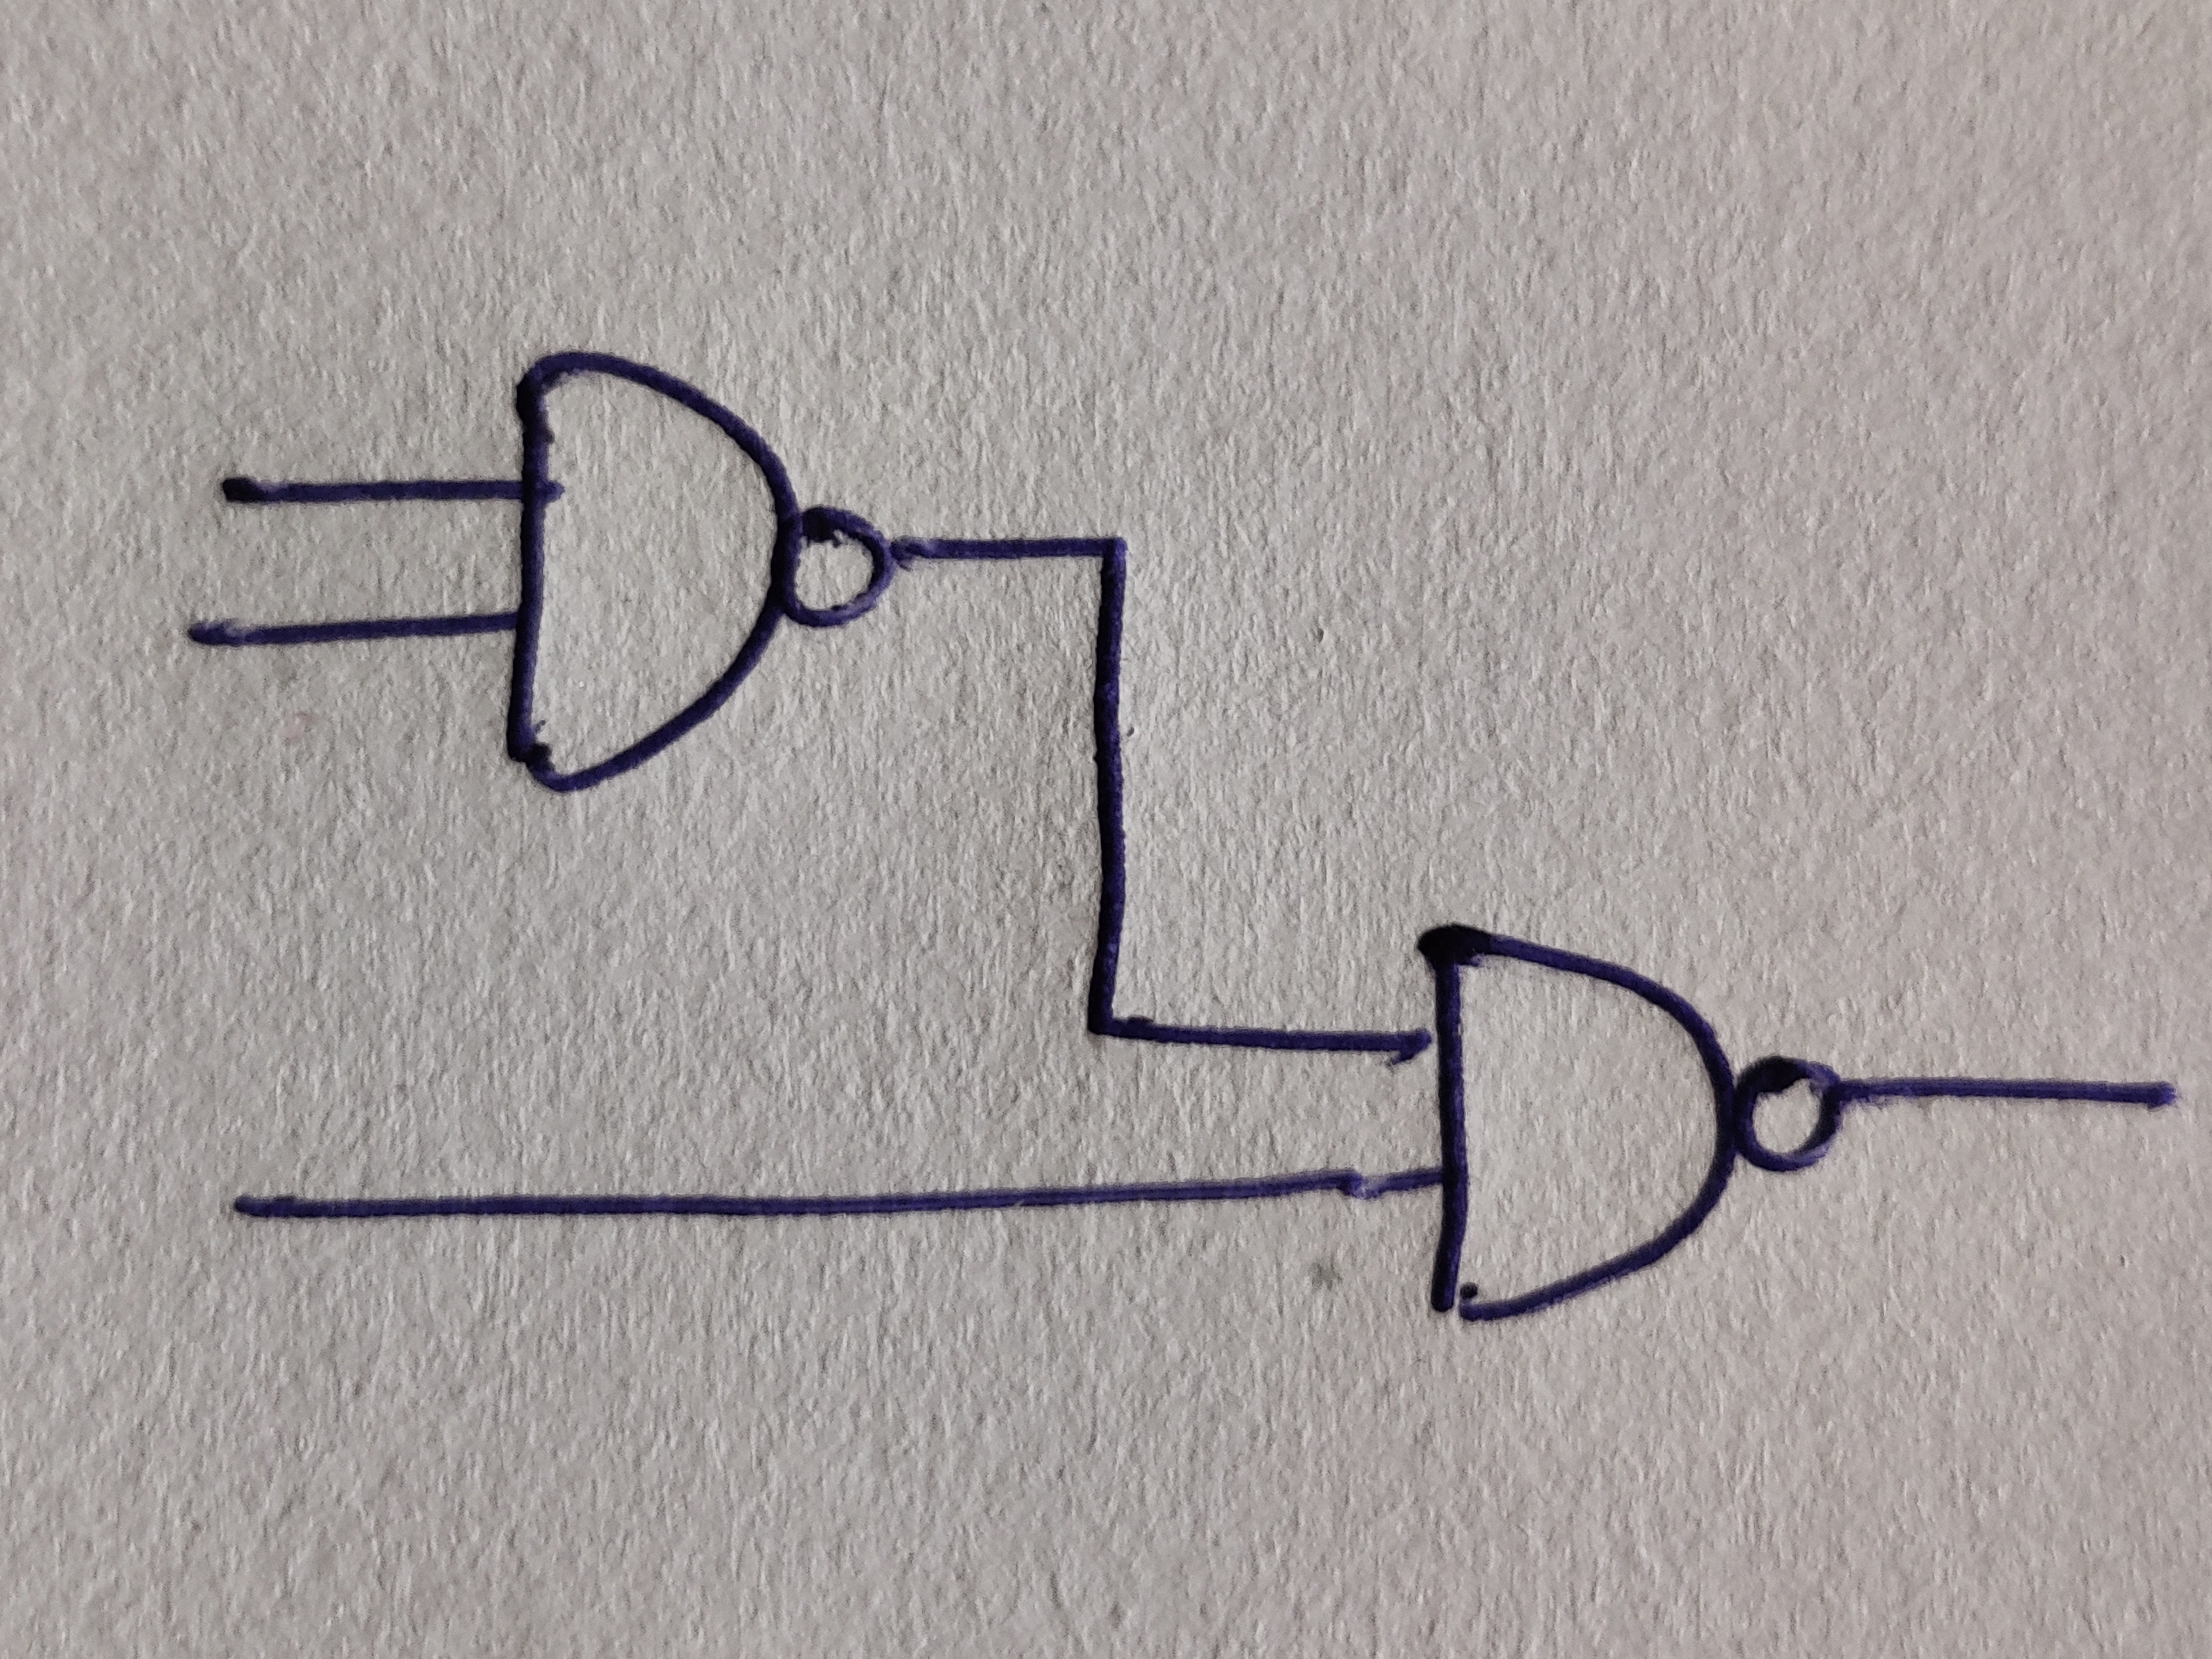and: (507, 350, 803, 791), (1420, 922, 1737, 1319)
not: (772, 511, 892, 626), (1731, 1054, 1844, 1175)
